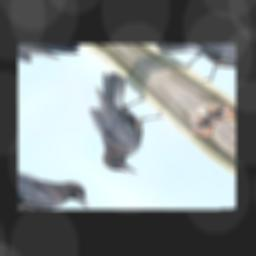Crow: (43, 67, 194, 181)
